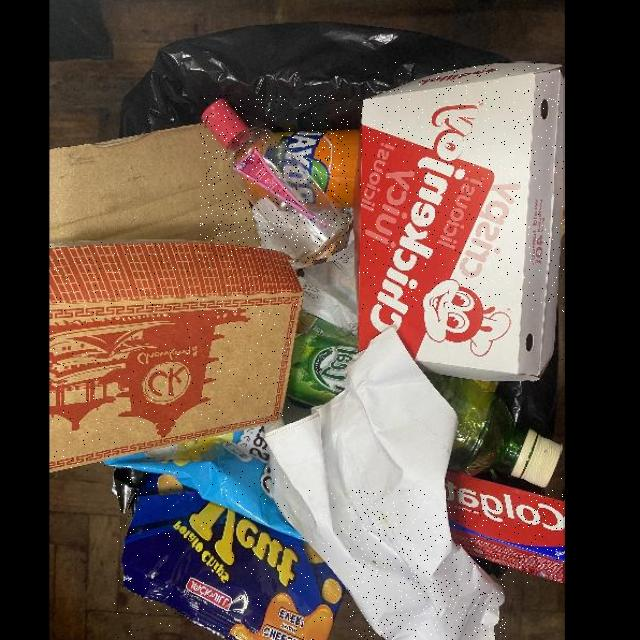paper: (265, 320, 506, 640), (359, 62, 564, 381), (50, 241, 304, 473), (446, 471, 564, 582)
plastic: (291, 311, 561, 490), (201, 95, 349, 263)
wrapper: (113, 464, 347, 640), (105, 429, 307, 540)
